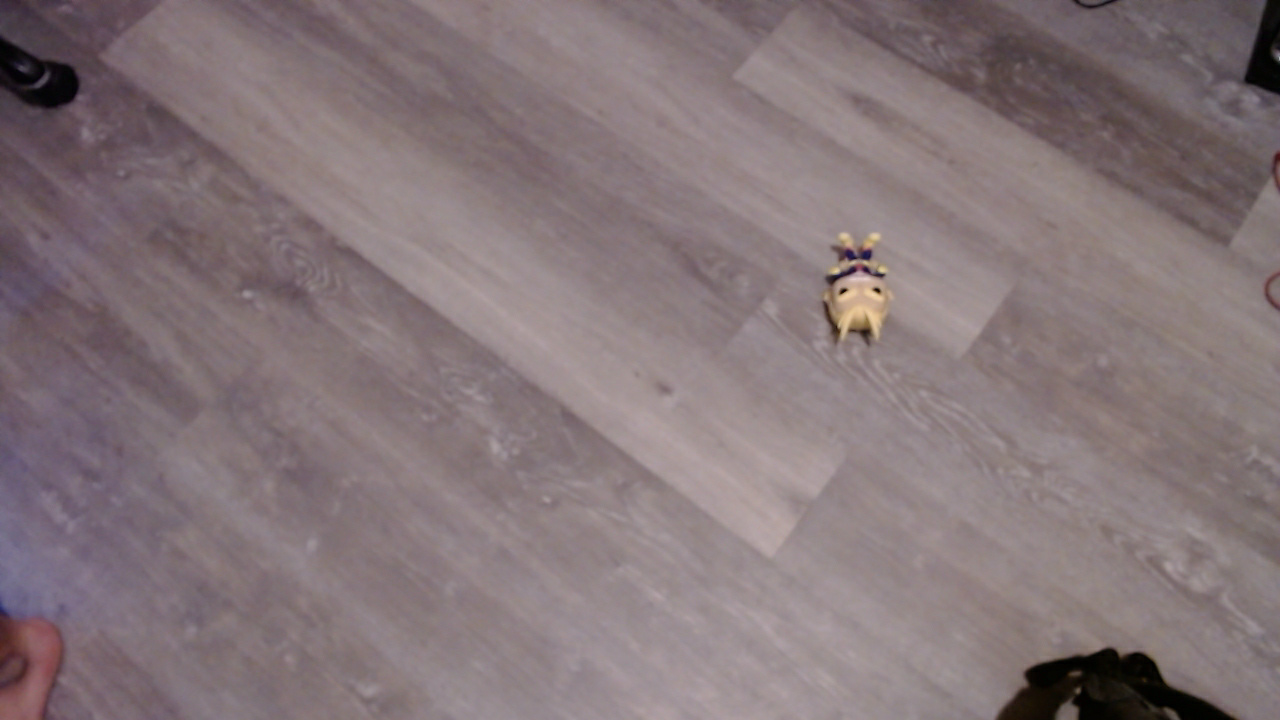all_might: (817, 228, 908, 359)
